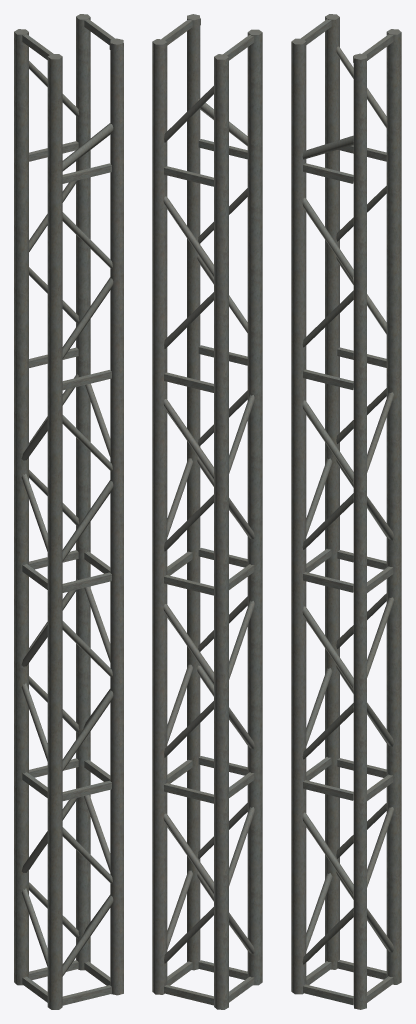
File: Frame_Section.fbx
3 views of the same model, side by side, from view 1: azimuth 30°, elevation 25°; view 2: azimuth 150°, elevation 25°; view 3: azimuth 330°, elevation 25° (orthographic).
Parts seen in each view (by area): view 1: Frame_Section; view 2: Frame_Section; view 3: Frame_Section.
Boxes of the visible parts, x1=… form: Frame_Section: x1=14, y1=14, x2=123, y2=1009; Frame_Section: x1=152, y1=14, x2=262, y2=1009; Frame_Section: x1=291, y1=14, x2=401, y2=1009.
Bounding box in the file's own units: 0.5065 × 6.2 × 0.4867.
